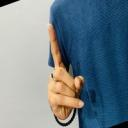hand: (47, 23, 84, 120)
